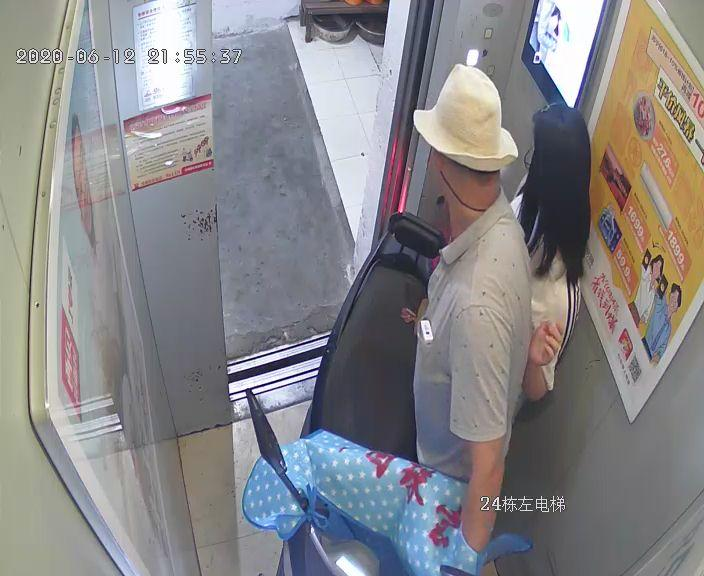Electric-bicycle: (243, 209, 449, 575)
